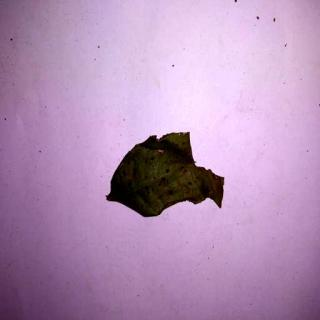Bird Eye Spot: (108, 132, 226, 218)
